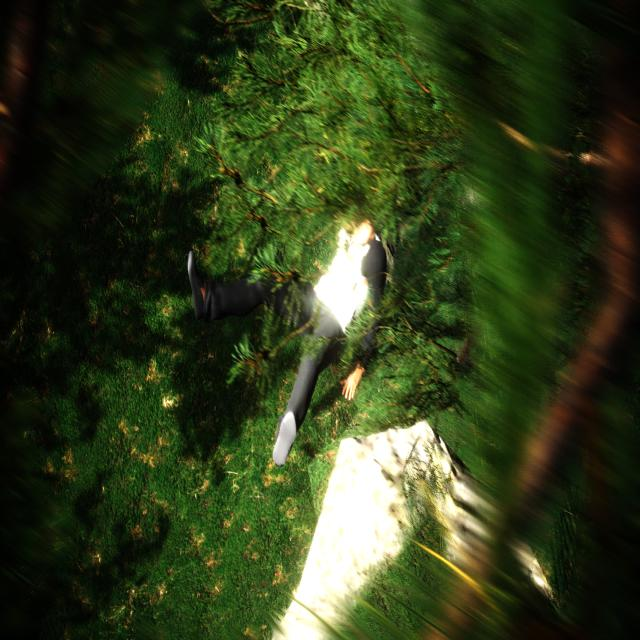Human: (181, 177, 387, 481)
